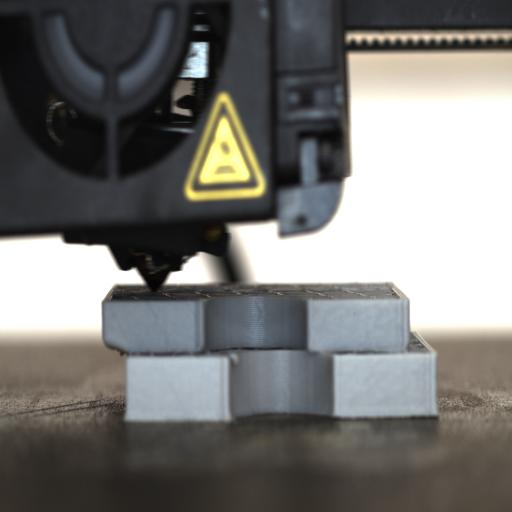layer_shift: (104, 335, 436, 359)
